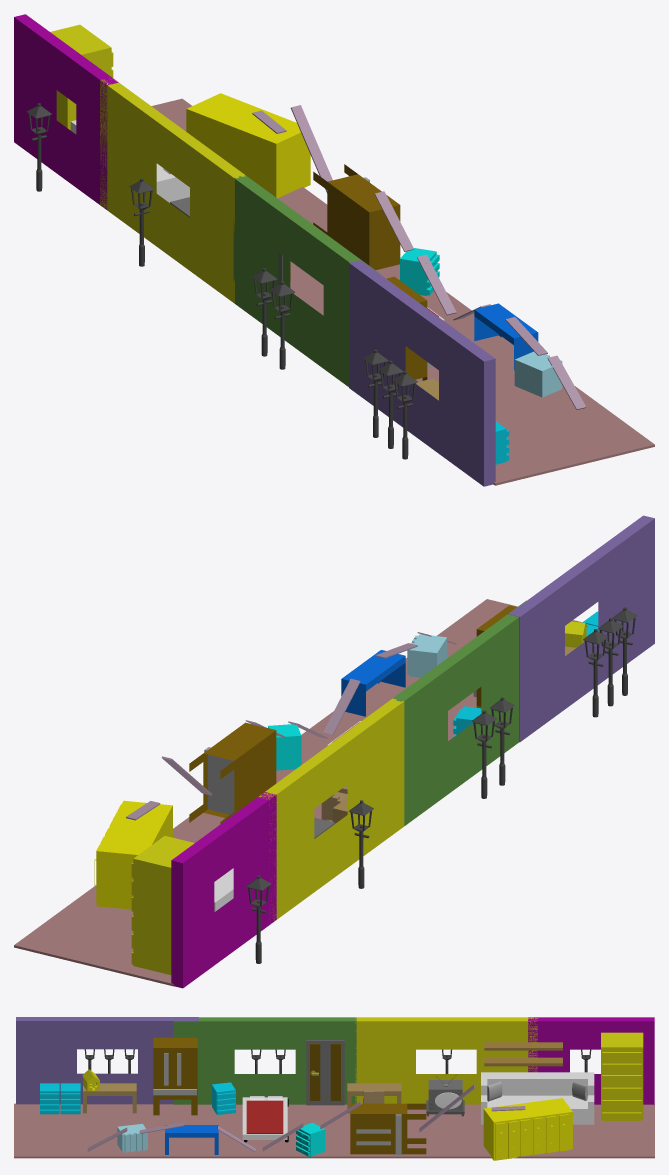
Rendered from lightworldex.fbx.
3 views of the same model, one above another, from view 1: azimuth 30°, elevation 25°; view 2: azimuth 150°, elevation 25°; view 3: azimuth 270°, elevation 25° (orthographic). The views are drawn at different scales.
Parts seen in each view (by area): view 1: pasted__pCube1, pasted__pasted__pasted__pCube1, pasted__pCube10, pasted__pasted__pCube1, pasted__pasted__pasted__pasted__pCube1, pasted__pasted__pCube17, pasted__pasted__pCube4, pasted__pCube17, pasted__pasted__pCube26, pasted__pasted__pCube2, pasted__pasted__pCube31, pasted__pasted__pasted__pasted__pasted__pasted__pCube13 (+4 smaller); view 2: pasted__pCube1, pasted__pasted__pasted__pCube1, pasted__pasted__pCube1, pasted__pasted__pasted__pasted__pCube1, pasted__pCube10, pasted__pCube17, pasted__pasted__pCube17, pasted__pasted__pCube4, pasted__pasted__pCube26, pasted__pasted__pCube5, pasted__pasted__pCube2, pasted__pasted__pCube31; view 3: pasted__pCube10, pasted__pasted__pasted__pCube1, pasted__pasted__pCube1, pasted__pCube1, pasted__pasted__pasted__pasted__pCube1, pasted__pCube16, pasted__pasted__pCube4, pasted__pCube4, pasted__pasted__pCube17, pasted__pCube17, pasted__pCube11, pasted__pasted__pCube9 (+32 smaller).
Part boxes in pixels (x1=…): pasted__pCube1: x1=349, y1=260, x2=495, y2=486; pasted__pasted__pasted__pCube1: x1=100, y1=78, x2=245, y2=303; pasted__pCube10: x1=151, y1=98, x2=654, y2=485; pasted__pasted__pCube1: x1=233, y1=175, x2=379, y2=386; pasted__pasted__pasted__pasted__pCube1: x1=14, y1=14, x2=118, y2=209; pasted__pasted__pCube17: x1=186, y1=93, x2=310, y2=198; pasted__pasted__pCube4: x1=313, y1=164, x2=400, y2=270; pasted__pCube17: x1=50, y1=24, x2=111, y2=130; pasted__pasted__pCube26: x1=474, y1=303, x2=538, y2=370; pasted__pasted__pCube2: x1=514, y1=351, x2=562, y2=397; pasted__pasted__pCube31: x1=400, y1=248, x2=436, y2=295; pasted__pasted__pasted__pasted__pasted__pasted__pCube13: x1=290, y1=105, x2=332, y2=193; pasted__pCube1: x1=508, y1=515, x2=654, y2=742; pasted__pasted__pasted__pCube1: x1=258, y1=698, x2=404, y2=923; pasted__pasted__pCube1: x1=393, y1=600, x2=526, y2=825; pasted__pasted__pasted__pasted__pCube1: x1=171, y1=792, x2=276, y2=988; pasted__pCube10: x1=14, y1=599, x2=581, y2=986; pasted__pCube17: x1=133, y1=836, x2=194, y2=974; pasted__pasted__pCube17: x1=96, y1=800, x2=172, y2=909; pasted__pasted__pCube4: x1=189, y1=722, x2=276, y2=824; pasted__pasted__pCube26: x1=341, y1=650, x2=405, y2=716; pasted__pasted__pCube5: x1=204, y1=747, x2=234, y2=814; pasted__pasted__pCube2: x1=409, y1=634, x2=447, y2=677; pasted__pasted__pCube31: x1=268, y1=724, x2=301, y2=770; pasted__pCube10: x1=14, y1=1103, x2=654, y2=1158; pasted__pasted__pasted__pCube1: x1=355, y1=1017, x2=537, y2=1104; pasted__pasted__pCube1: x1=173, y1=1017, x2=356, y2=1104; pasted__pCube1: x1=16, y1=1017, x2=198, y2=1104; pasted__pasted__pasted__pasted__pCube1: x1=528, y1=1017, x2=654, y2=1104; pasted__pCube16: x1=481, y1=1072, x2=594, y2=1124; pasted__pasted__pCube4: x1=350, y1=1103, x2=426, y2=1154; pasted__pCube4: x1=153, y1=1037, x2=197, y2=1115; pasted__pasted__pCube17: x1=483, y1=1098, x2=572, y2=1160; pasted__pCube17: x1=601, y1=1032, x2=643, y2=1119; pasted__pCube11: x1=306, y1=1040, x2=344, y2=1105; pasted__pasted__pCube9: x1=246, y1=1100, x2=283, y2=1133.
Bounding box in the file's own units: 22.24 × 12.97 × 85.1.
